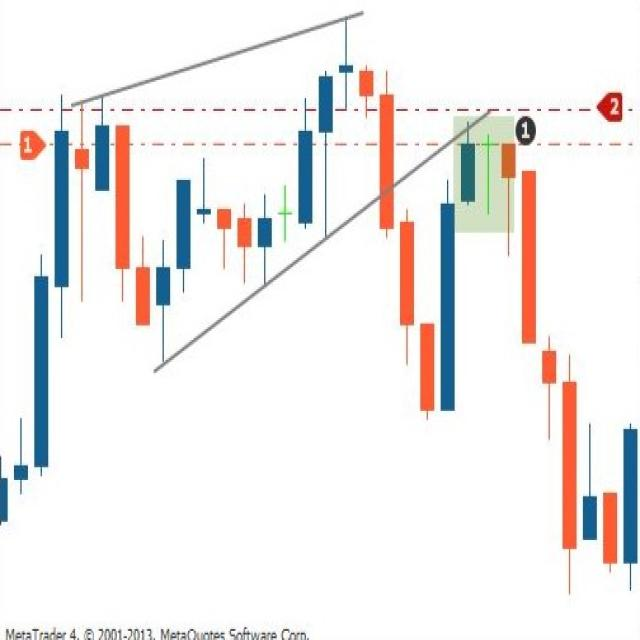Rising-Wedge: (14, 11, 510, 504)
